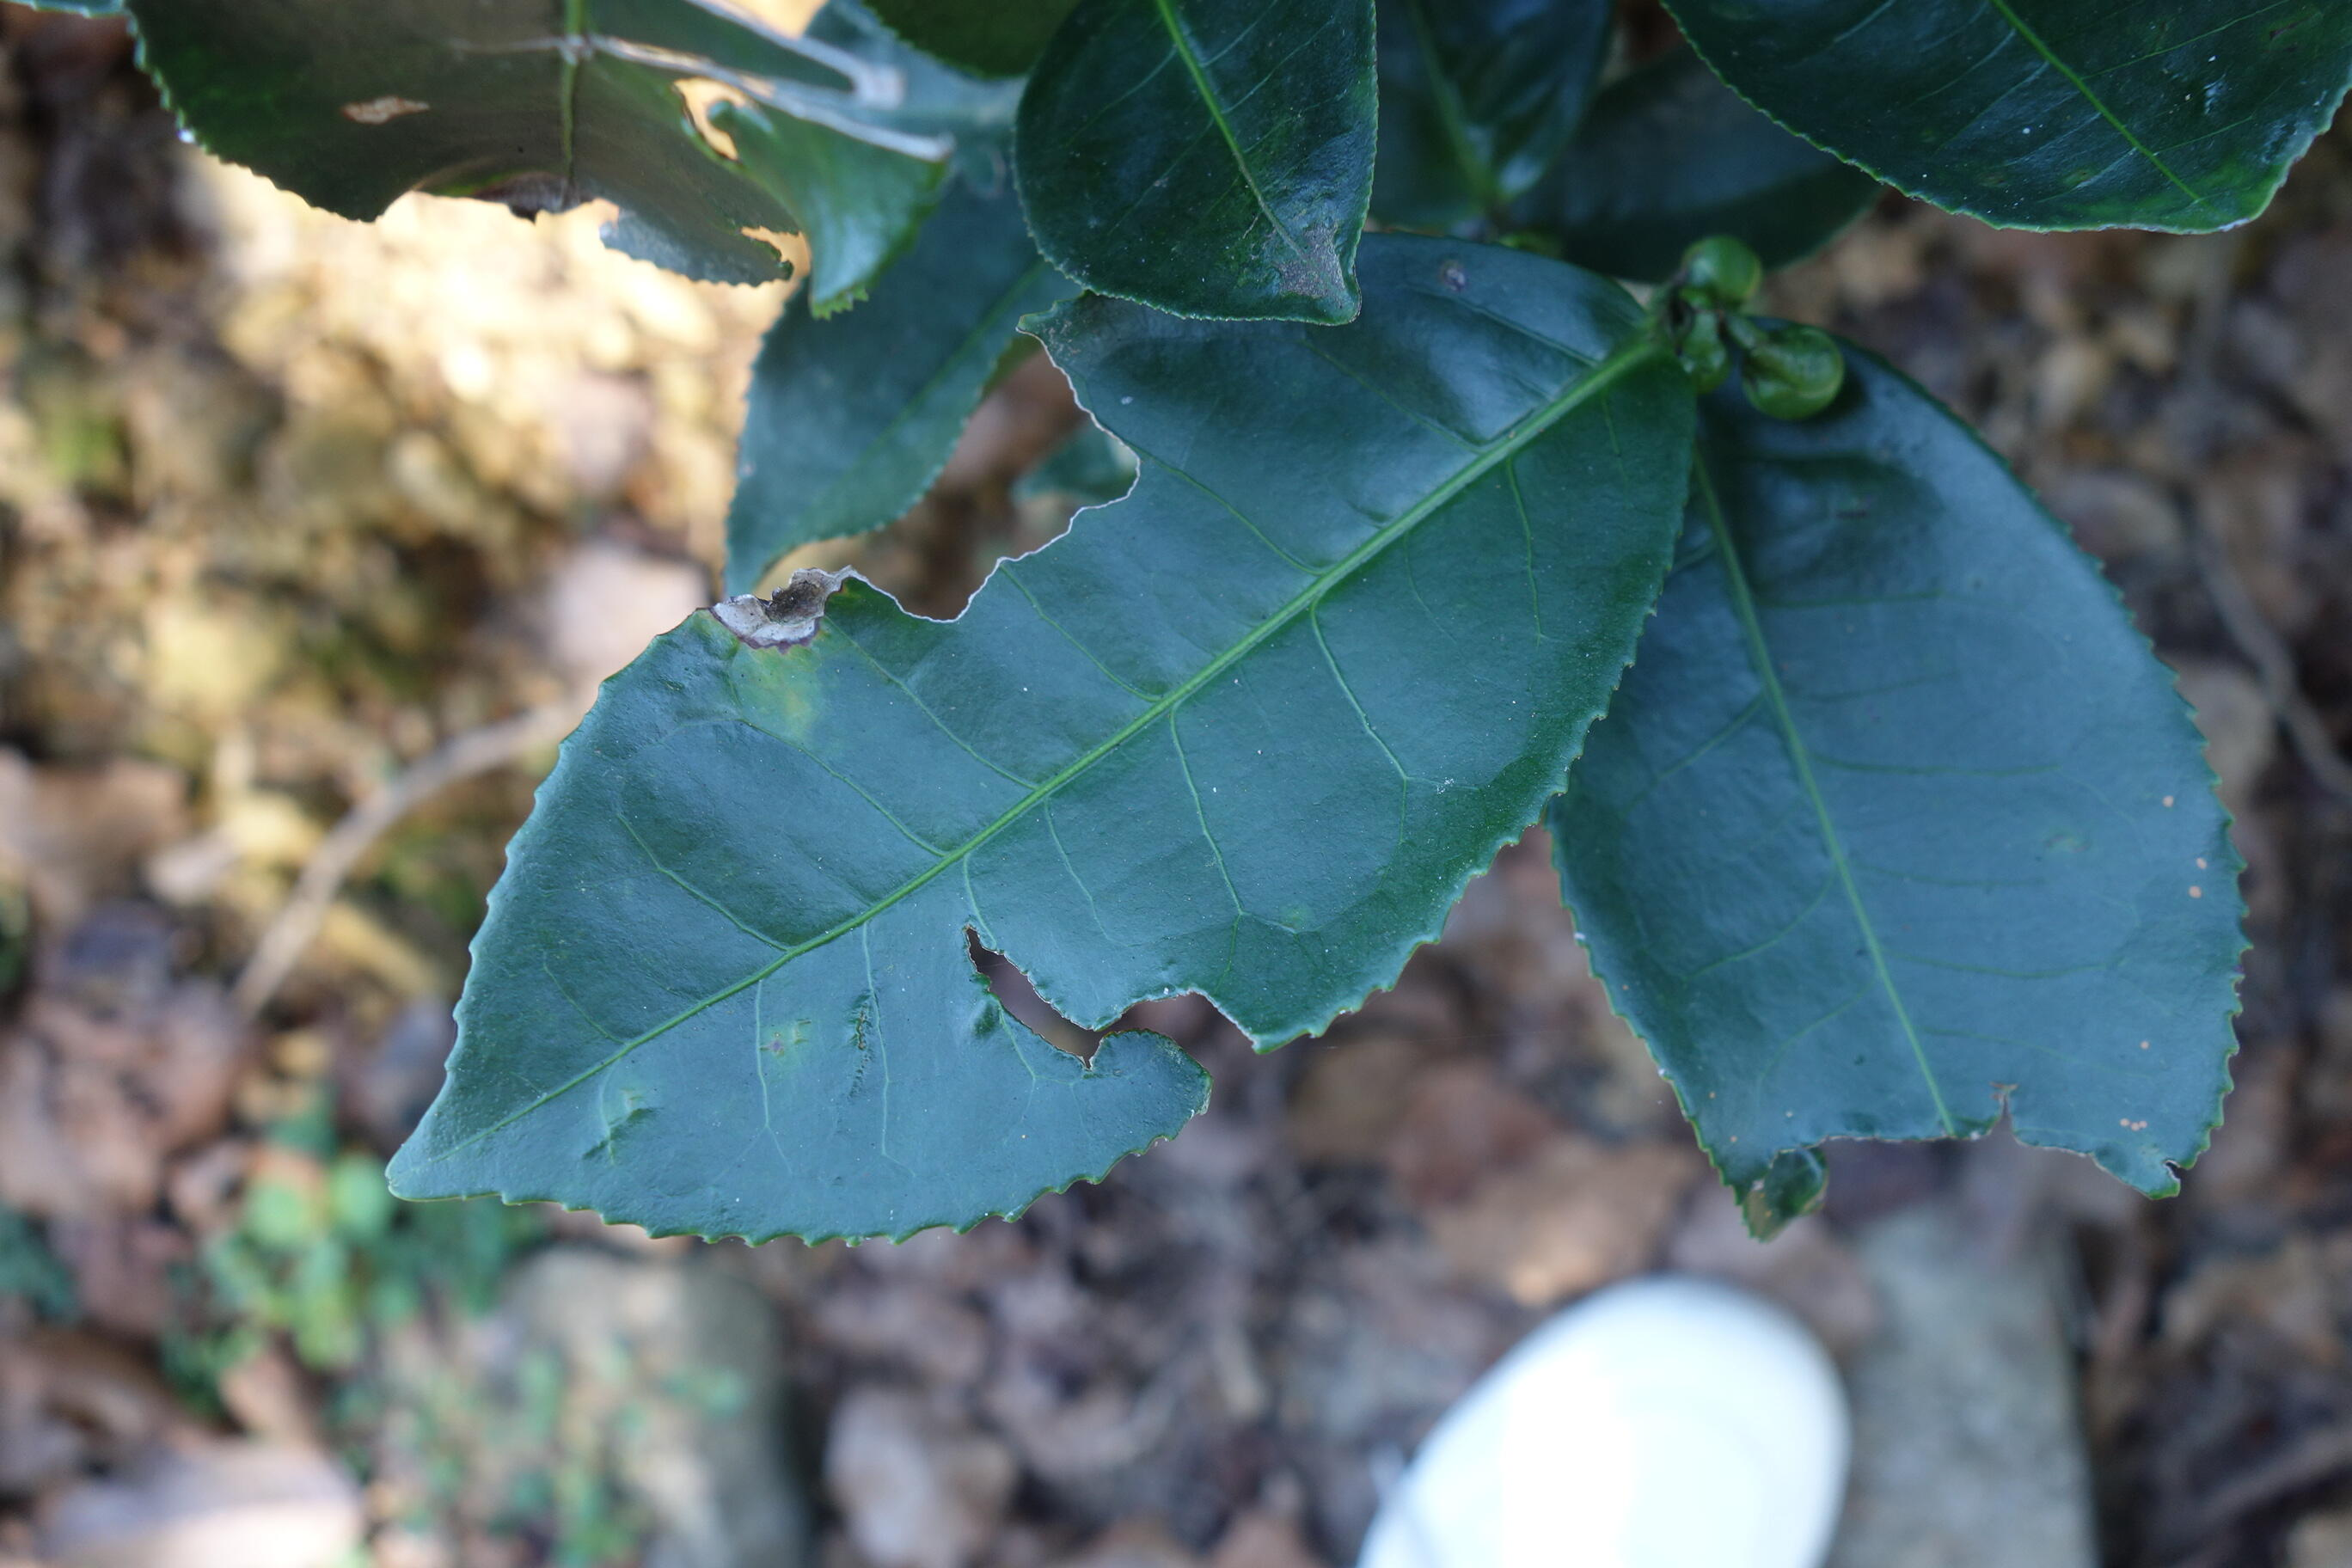chihuo_high: (385, 229, 1703, 1255), (1547, 318, 2254, 1199), (126, 2, 961, 317)
